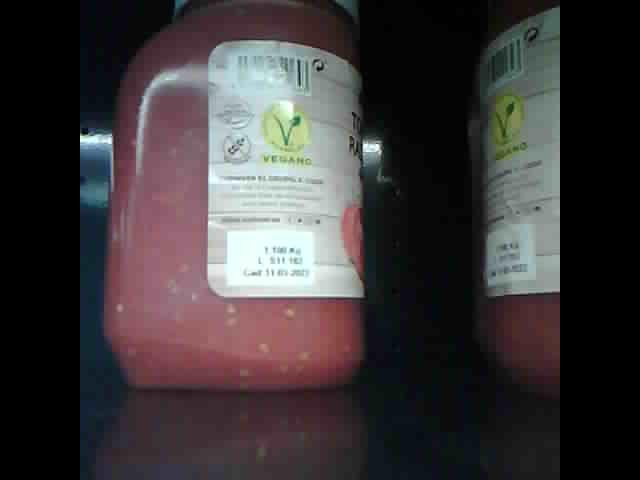tomate: (102, 1, 370, 389), (477, 7, 558, 398)
